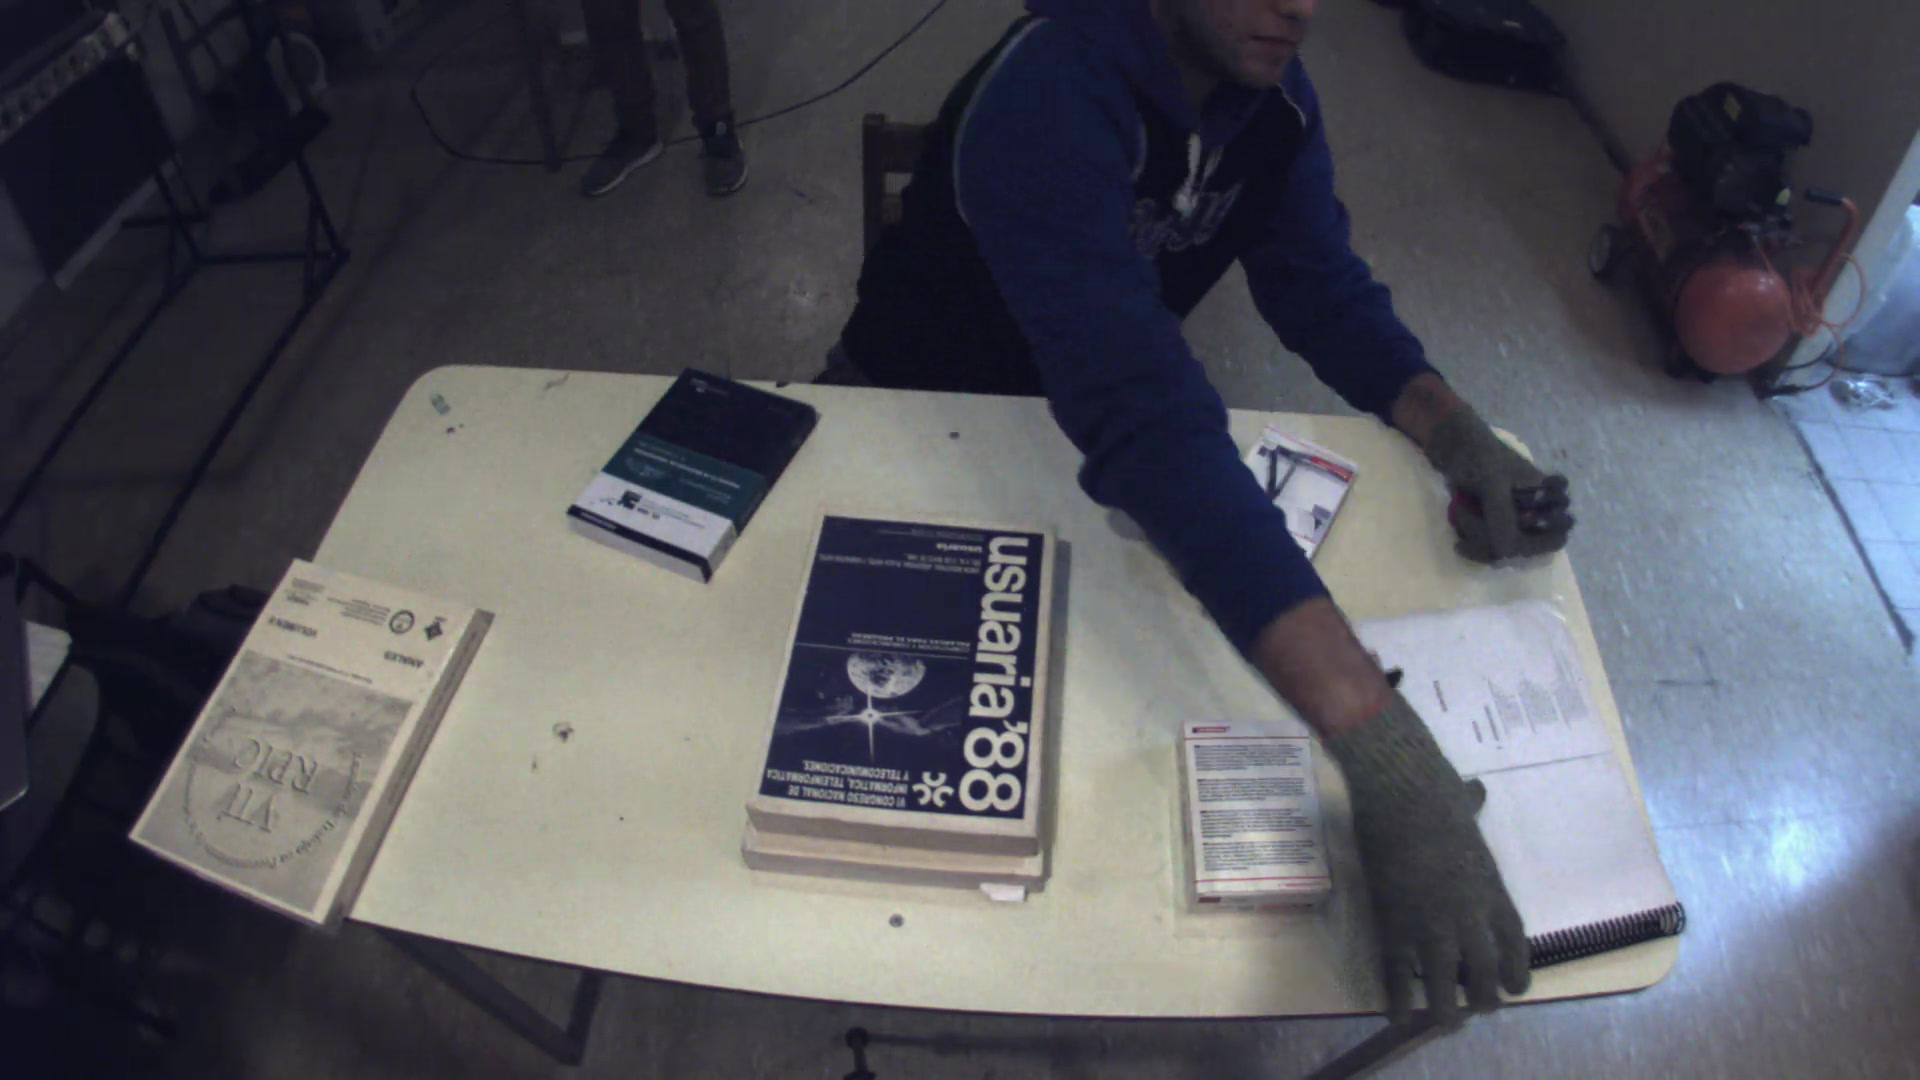hand: (1335, 698, 1542, 1039), (1404, 377, 1571, 564)
